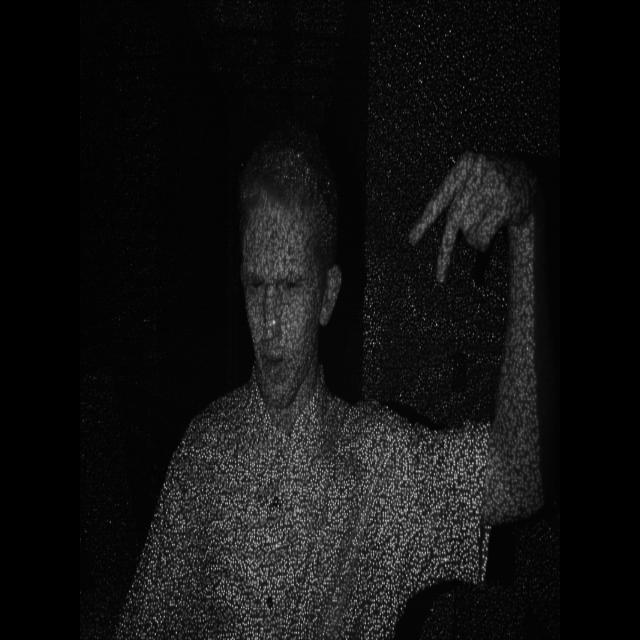P: (405, 130, 545, 303)
